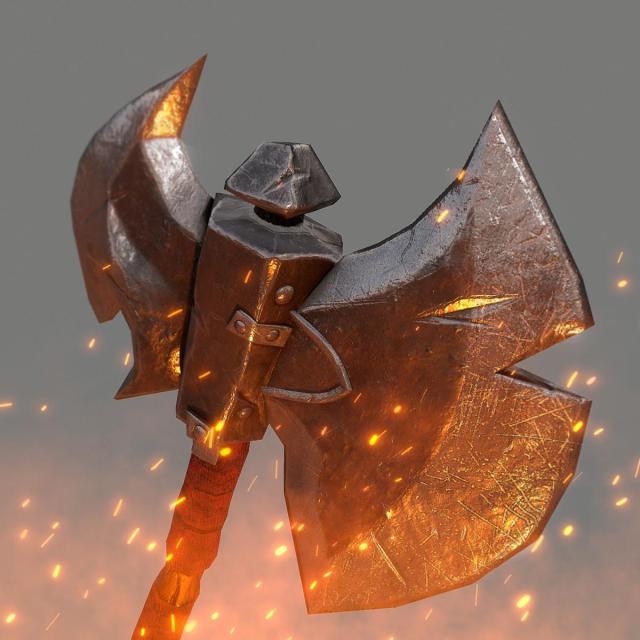Gun: (6, 16, 598, 640)
